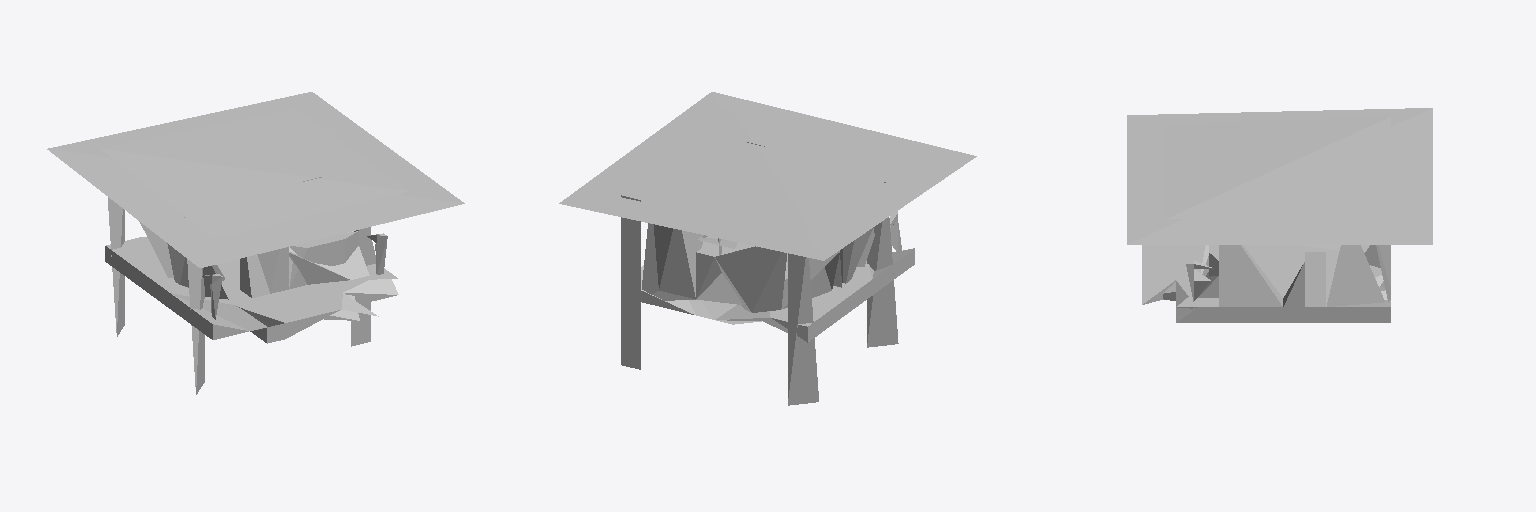
Rendered from witchhouse02.obj.
3 views of the same model, side by side, from view 1: azimuth 30°, elevation 25°; view 2: azimuth 150°, elevation 25°; view 3: azimuth 270°, elevation 25° (orthographic).
Visible parts, largest first — view 1: witchhouse08:pCube6, witchhouse08:pCube7, witchhouse08:pCube17, witchhouse08:pCube5, witchhouse08:pCube9, witchhouse08:pCube11, witchhouse08:pCube12; view 2: witchhouse08:pCube6, witchhouse08:pCube7, witchhouse08:pCube5, witchhouse08:pCube17, witchhouse08:pCube11, witchhouse08:pCube4, witchhouse08:pCube9; view 3: witchhouse08:pCube6, witchhouse08:pCube7, witchhouse08:pCube5, witchhouse08:pCube17, witchhouse08:pCube14.
Part boxes in pixels (left/top/right/bottom): witchhouse08:pCube6: left=101, top=109, right=407, bottom=238; witchhouse08:pCube7: left=47, top=92, right=464, bottom=267; witchhouse08:pCube17: left=105, top=231, right=398, bottom=343; witchhouse08:pCube5: left=139, top=221, right=397, bottom=337; witchhouse08:pCube9: left=184, top=217, right=204, bottom=394; witchhouse08:pCube11: left=108, top=197, right=124, bottom=336; witchhouse08:pCube12: left=351, top=227, right=370, bottom=346; witchhouse08:pCube6: left=617, top=107, right=924, bottom=229; witchhouse08:pCube7: left=559, top=92, right=976, bottom=260; witchhouse08:pCube5: left=642, top=223, right=874, bottom=312; witchhouse08:pCube17: left=641, top=226, right=914, bottom=342; witchhouse08:pCube11: left=788, top=253, right=818, bottom=405; witchhouse08:pCube4: left=621, top=195, right=640, bottom=369; witchhouse08:pCube9: left=867, top=182, right=898, bottom=347; witchhouse08:pCube6: left=1165, top=116, right=1390, bottom=218; witchhouse08:pCube7: left=1127, top=108, right=1432, bottom=244; witchhouse08:pCube5: left=1142, top=245, right=1390, bottom=308; witchhouse08:pCube17: left=1142, top=245, right=1390, bottom=322; witchhouse08:pCube14: left=1186, top=261, right=1213, bottom=301.
Bounding box in the file's own units: 13.2 × 8.62 × 13.2.